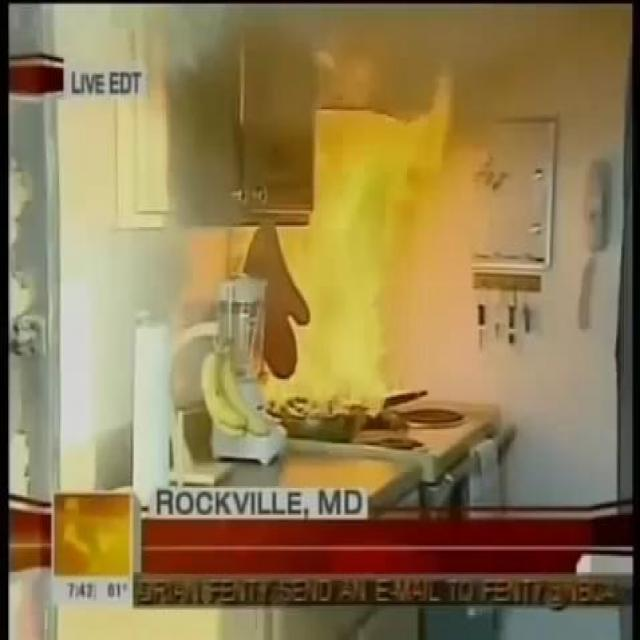fire: (283, 76, 475, 409)
